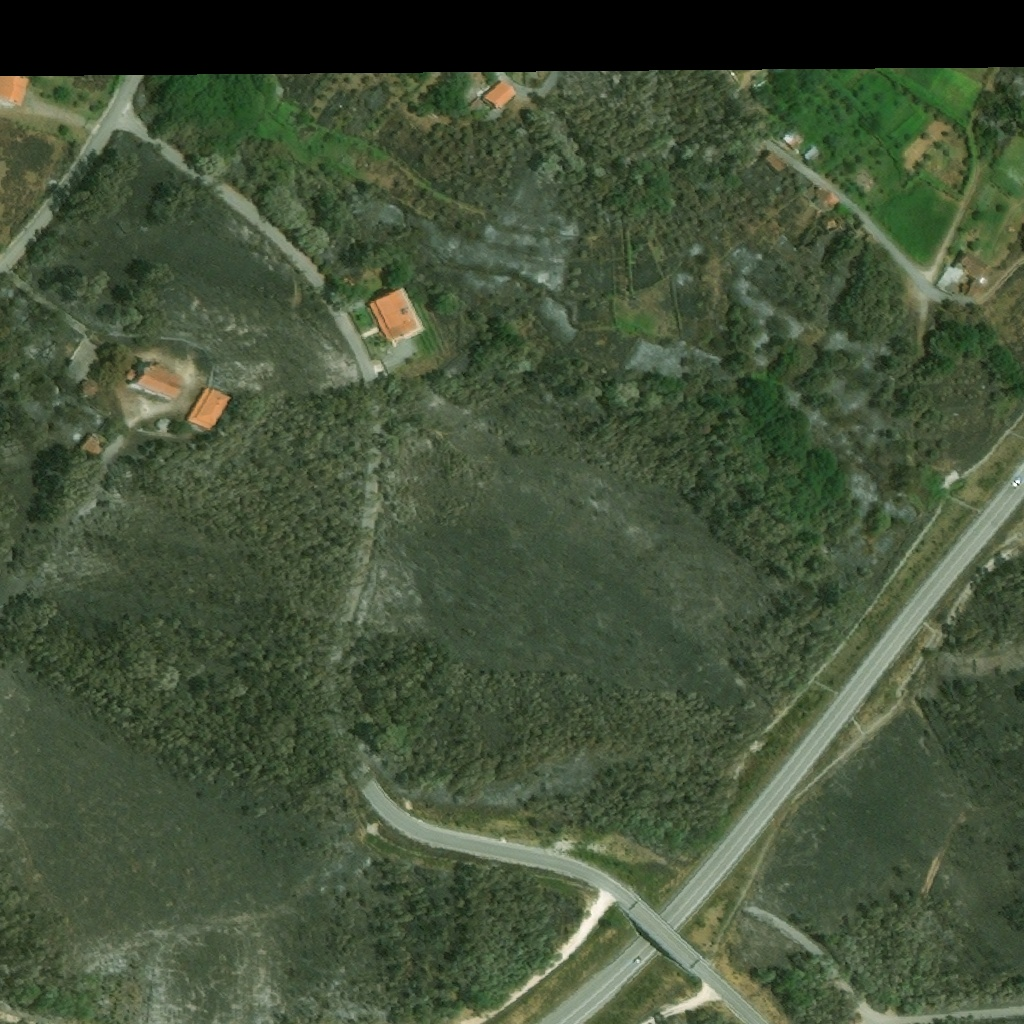0 no-damage: (367, 287, 422, 344), (185, 386, 233, 431), (135, 360, 185, 399), (959, 253, 996, 300), (0, 72, 32, 109), (481, 82, 516, 112), (780, 130, 805, 152), (802, 145, 821, 163)
1 minor-damage: (762, 149, 786, 174), (155, 418, 167, 430), (83, 379, 95, 391)
2 major-damage: (816, 189, 841, 213), (81, 434, 107, 457)
3 destroyed: (936, 266, 964, 295), (801, 184, 821, 202)
4 un-classified: (507, 66, 526, 85), (766, 62, 792, 71)
